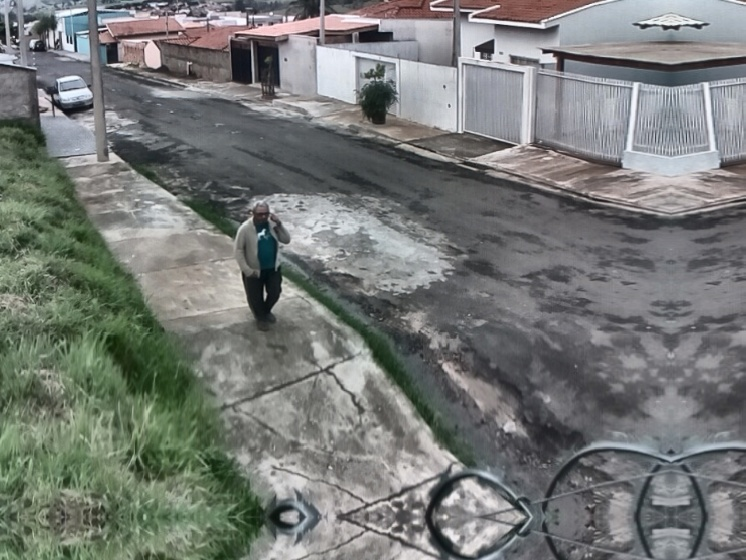person: (232, 198, 293, 334)
